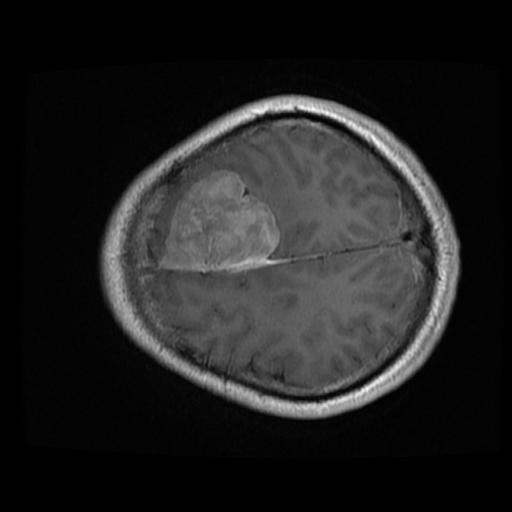meningioma: (158, 172, 278, 271)
